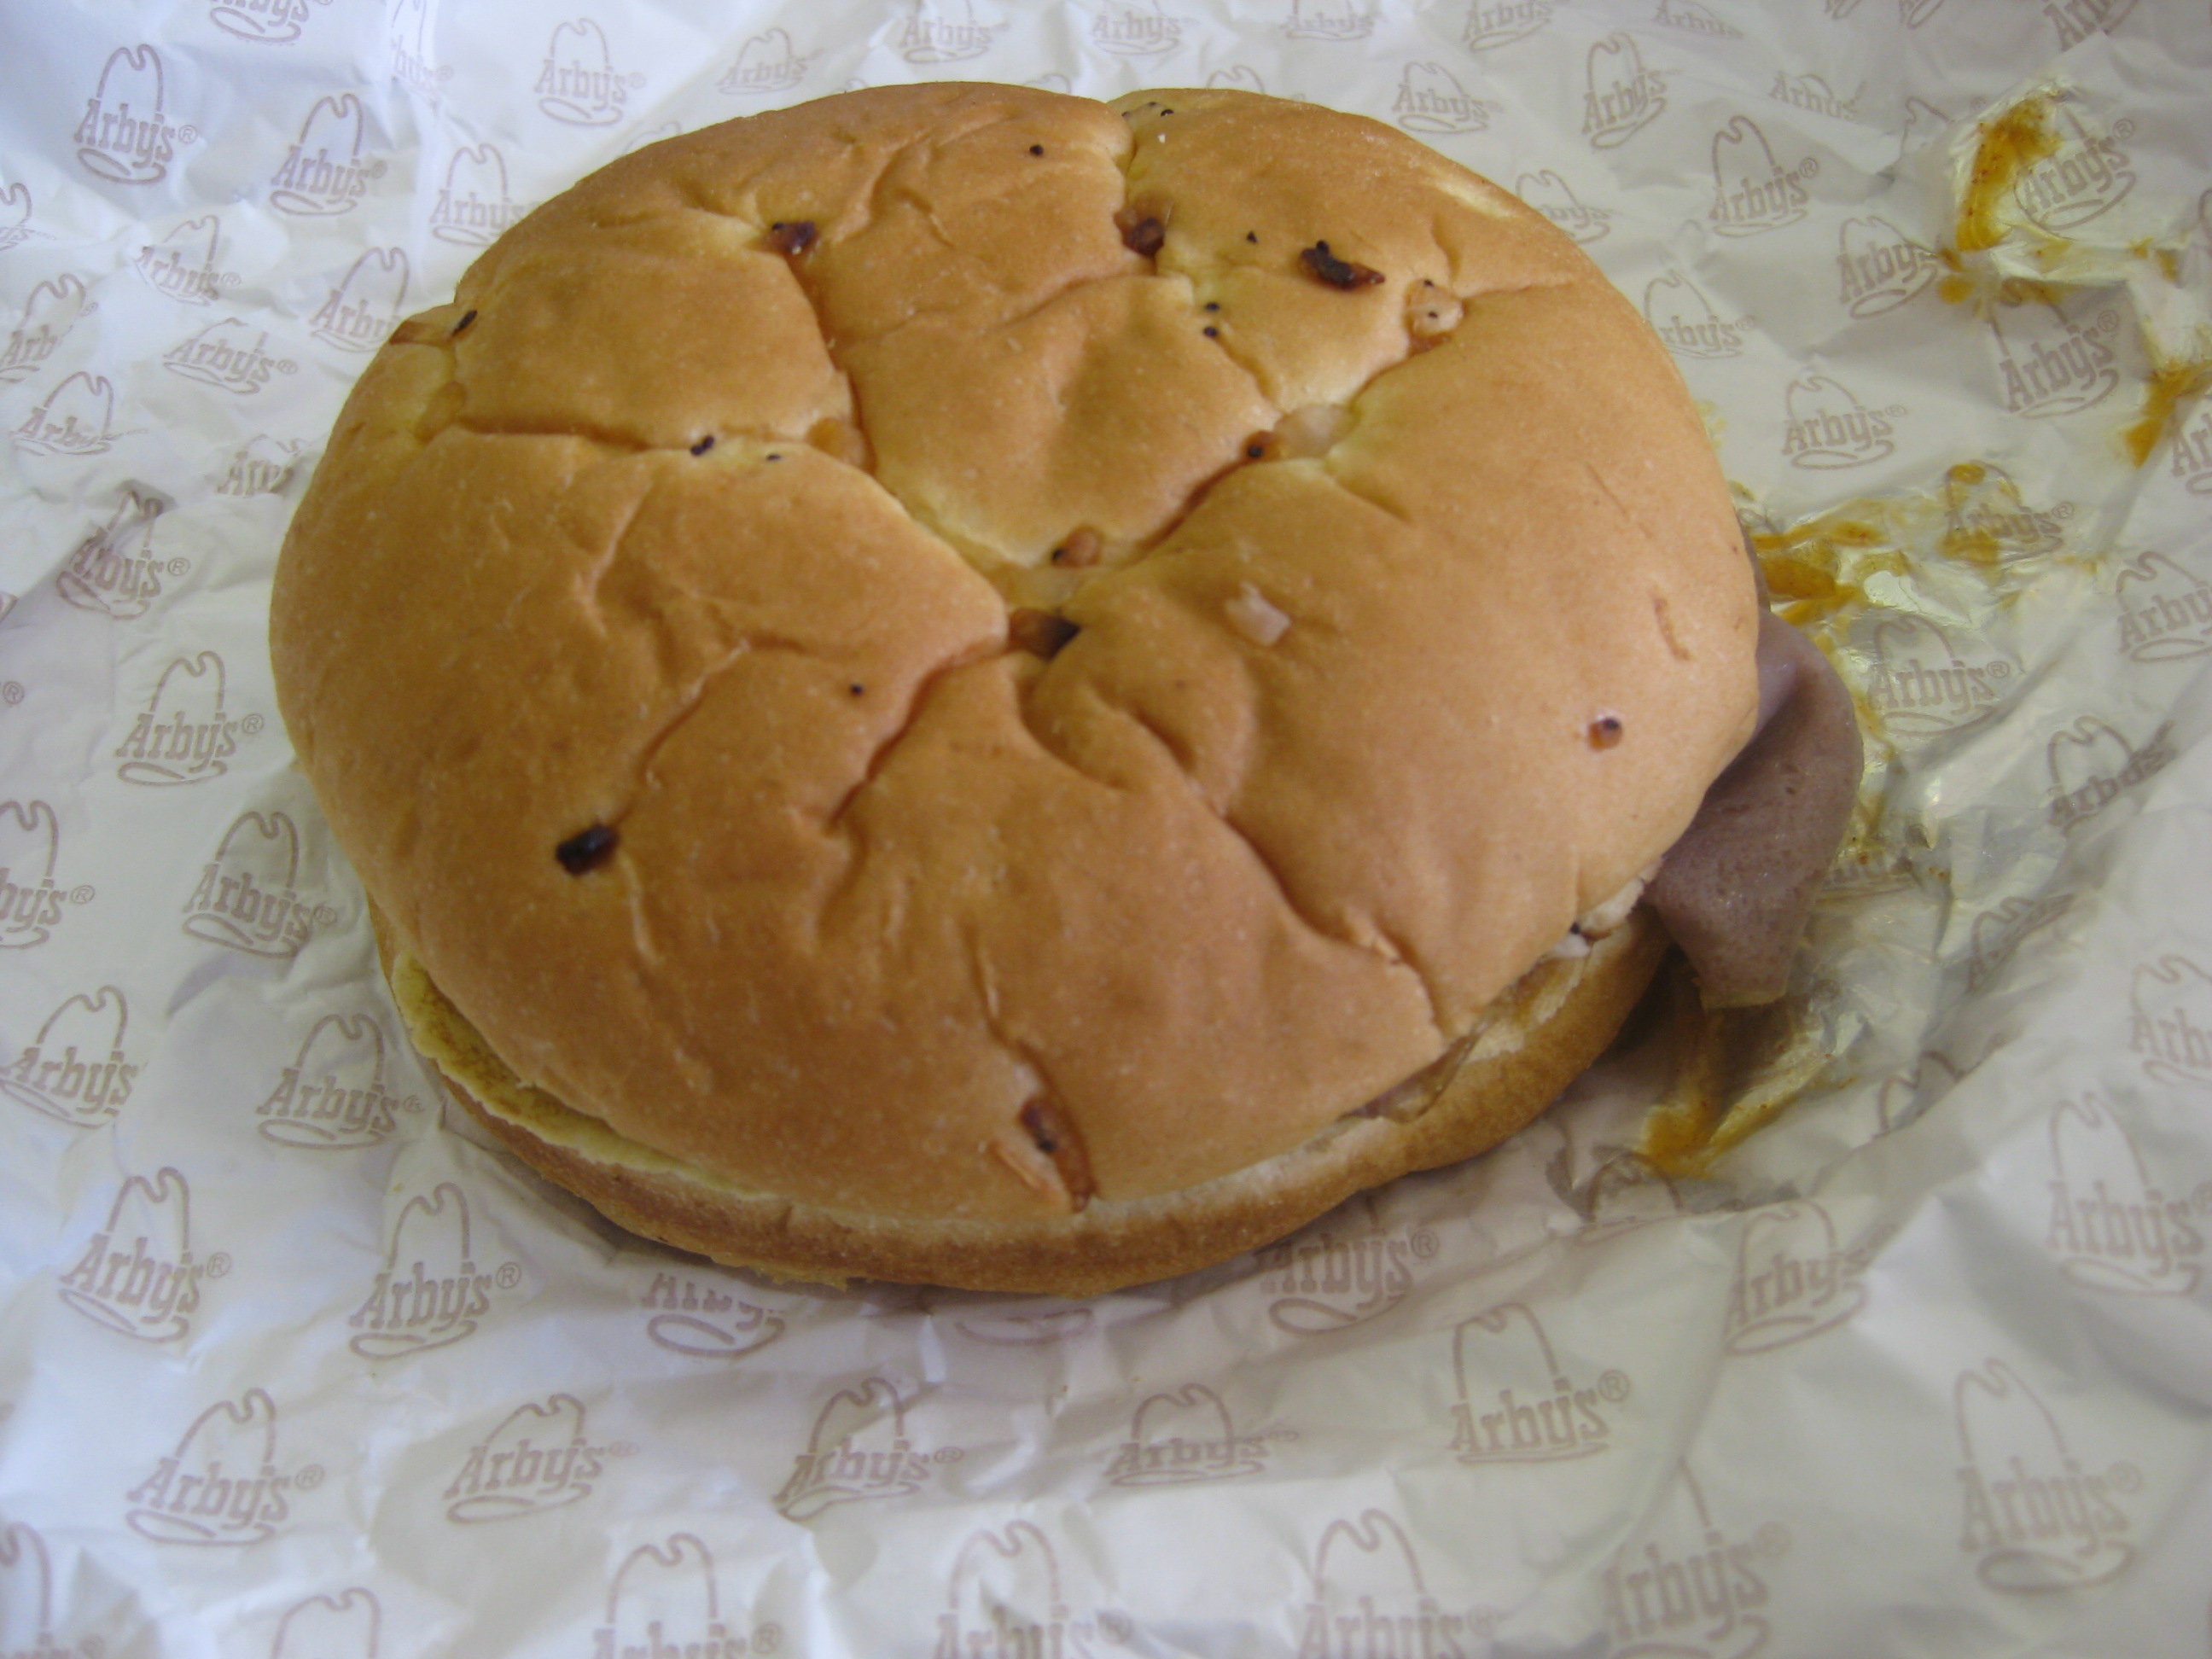burger: (241, 44, 1906, 1309)
